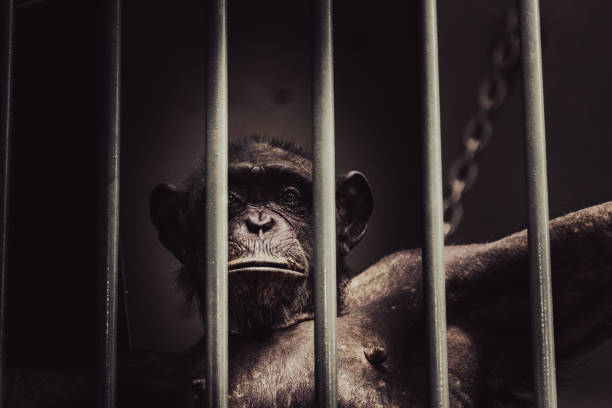chimpanzee: (150, 128, 387, 347)
